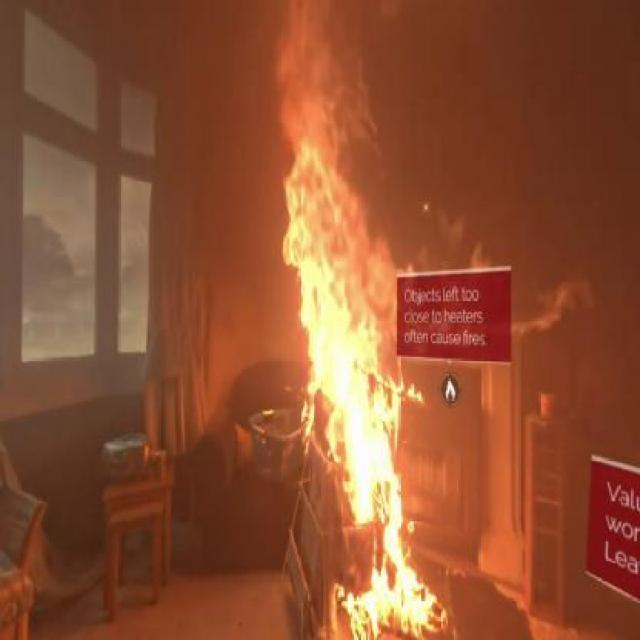fire: (282, 172, 396, 526)
smoke: (126, 1, 280, 270), (407, 21, 565, 204)
